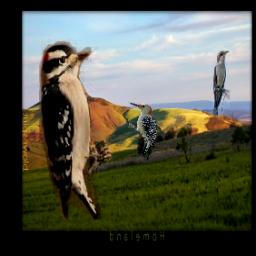Cuckoo: (213, 50, 230, 128)
Woodpecker: (39, 38, 113, 219), (128, 101, 157, 160)
